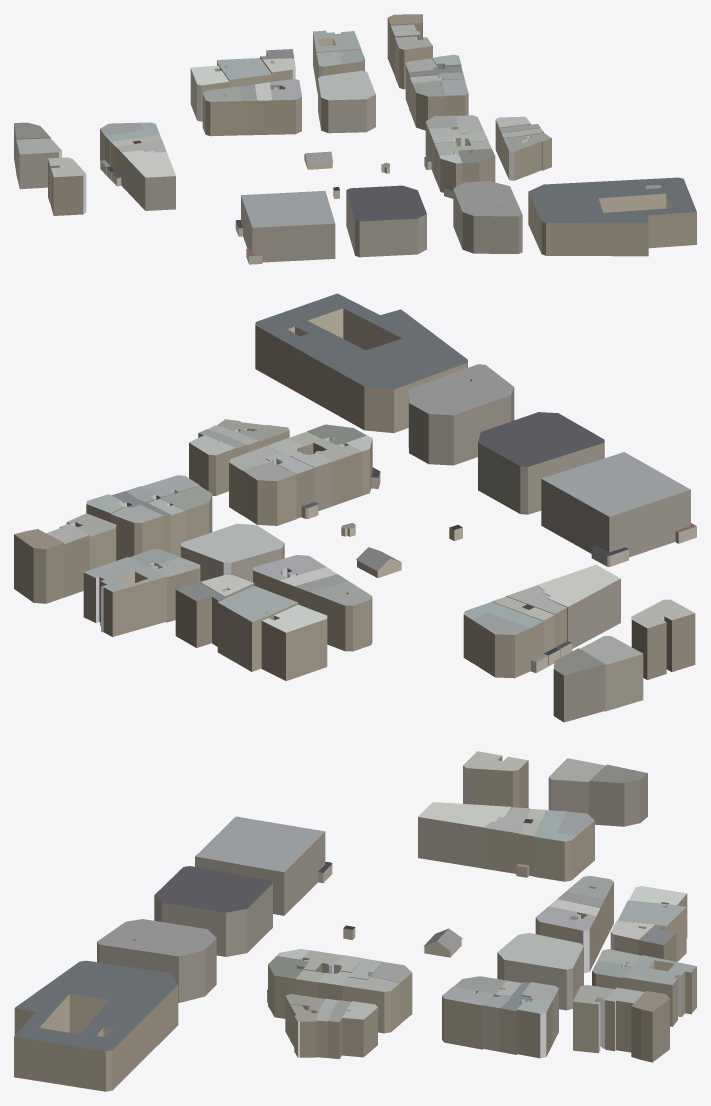
The picture shows the model from 3 angles, top to bottom: view 1: azimuth 30°, elevation 25°; view 2: azimuth 150°, elevation 25°; view 3: azimuth 270°, elevation 25°; orthographic projection. The views are drawn at different scales.
Parts seen in each view (by area): view 1: tuile; view 2: tuile; view 3: tuile.
Boxes of the visible parts, bbox=[...] form: tuile: bbox=[14, 14, 696, 264]; tuile: bbox=[14, 293, 696, 722]; tuile: bbox=[14, 751, 696, 1091].
Size of the model in its own units: 296 by 27.5 by 295.
